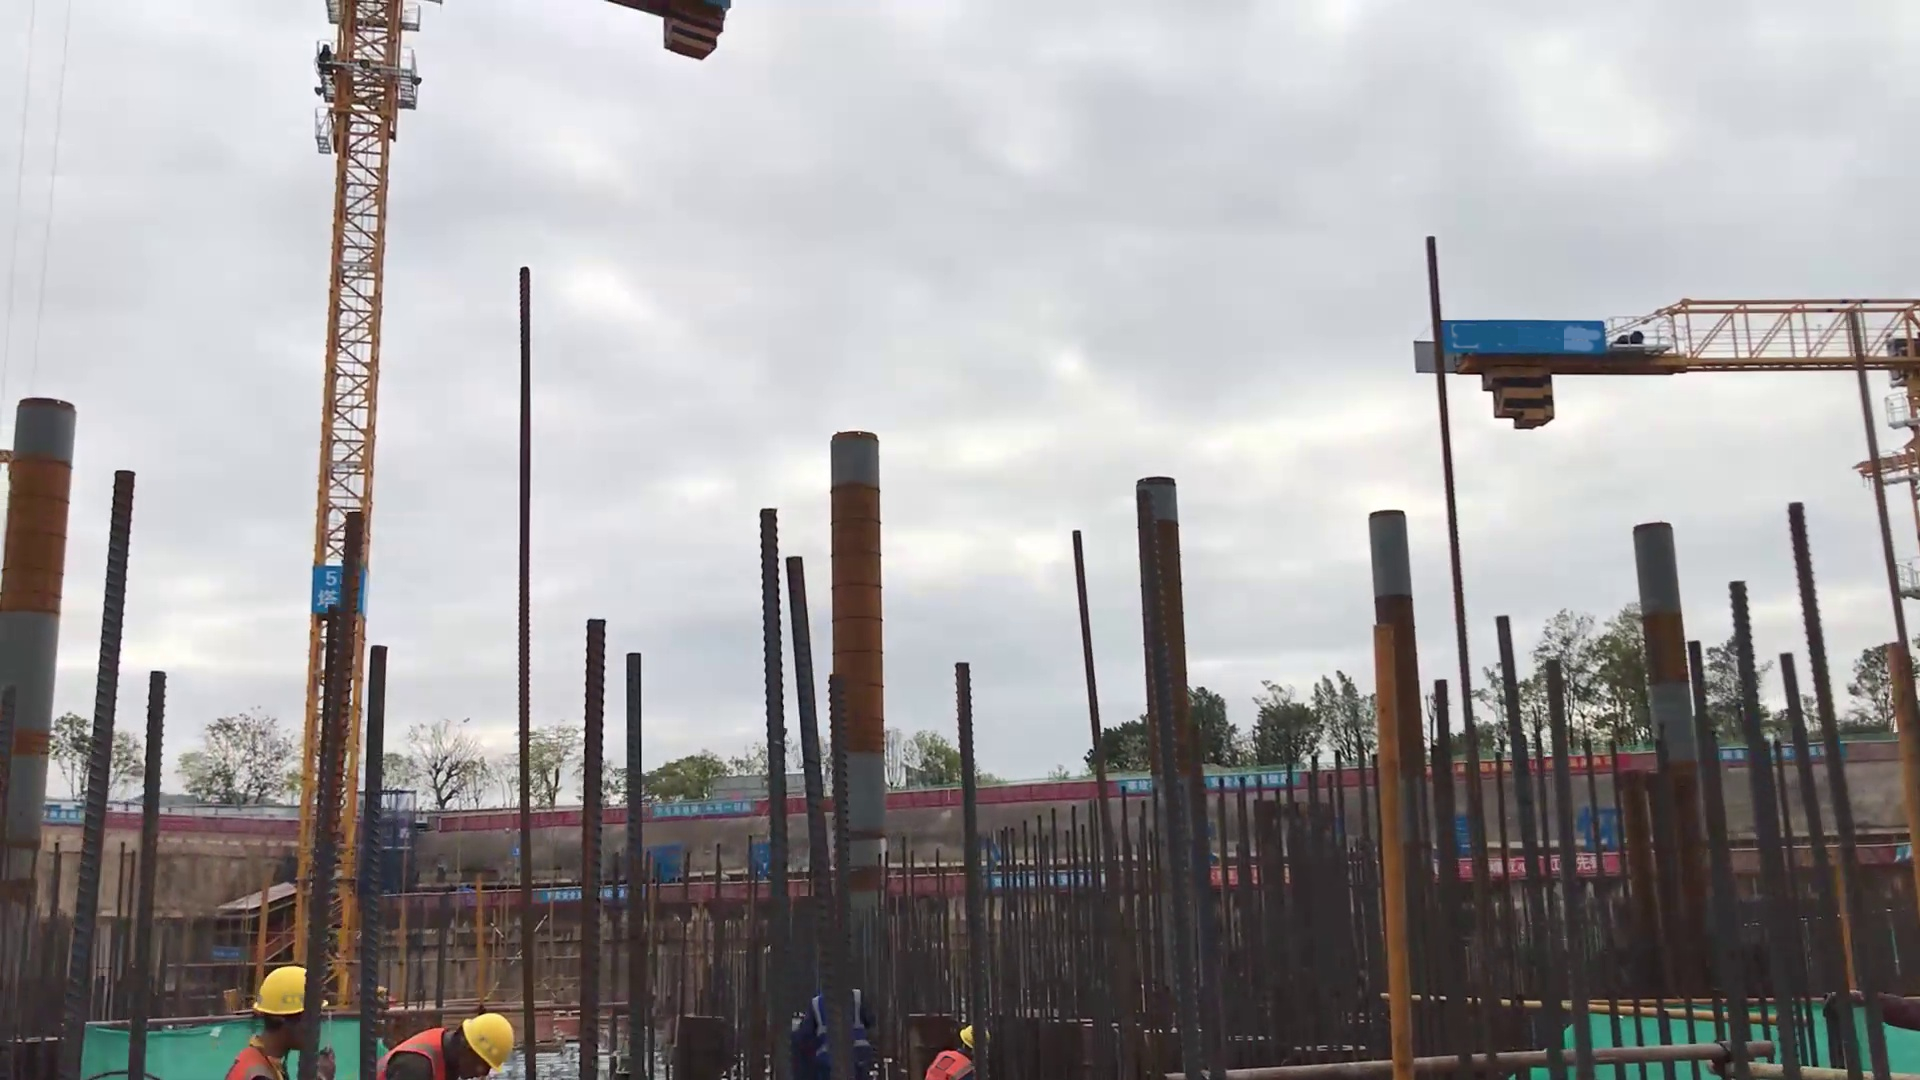fence: (156, 800, 297, 855), (972, 764, 1100, 813), (436, 800, 526, 842), (887, 783, 958, 826), (532, 804, 582, 836)
helmet: (254, 962, 327, 1023), (459, 1008, 520, 1077), (954, 1024, 996, 1049)
person: (221, 968, 339, 1080), (369, 1003, 521, 1080), (912, 1019, 997, 1080)
slogan: (651, 800, 769, 833), (308, 561, 346, 617)
vest: (377, 1012, 459, 1075), (216, 1032, 305, 1080), (916, 1046, 982, 1078)
